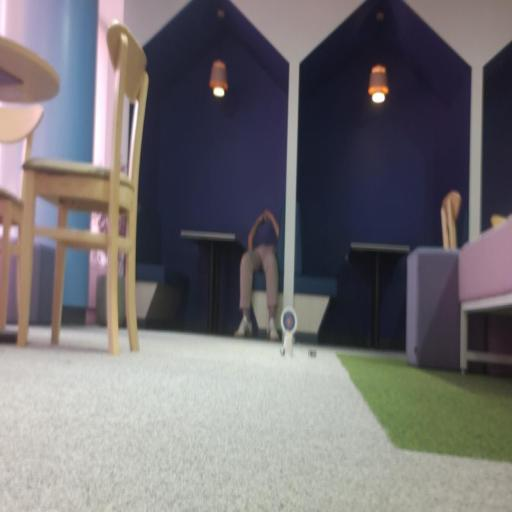target: (281, 307, 297, 338)
